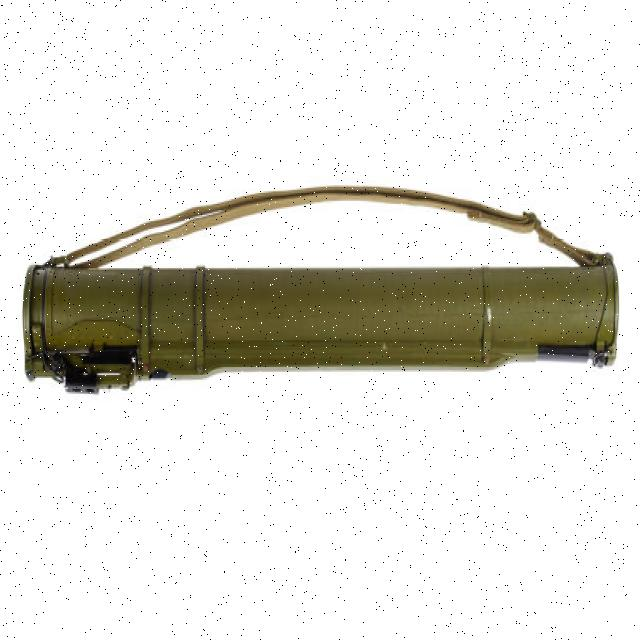bazooka: (12, 252, 627, 405)
